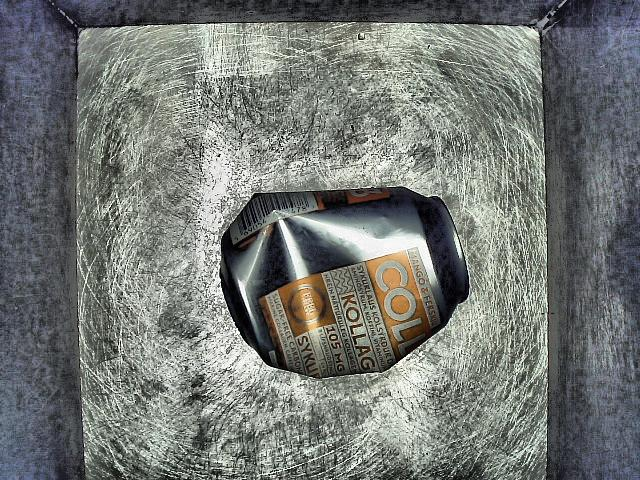Bottles: (208, 183, 484, 399)
